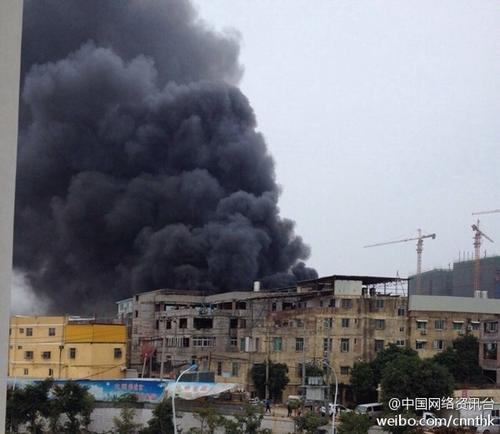smoke: (20, 7, 282, 287)
